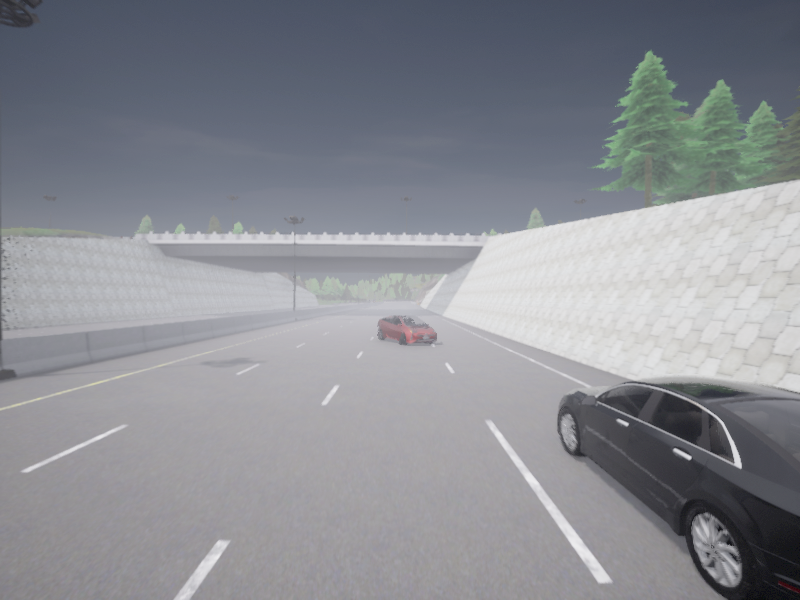vehicle: (557, 375, 799, 599), (378, 315, 437, 345)
